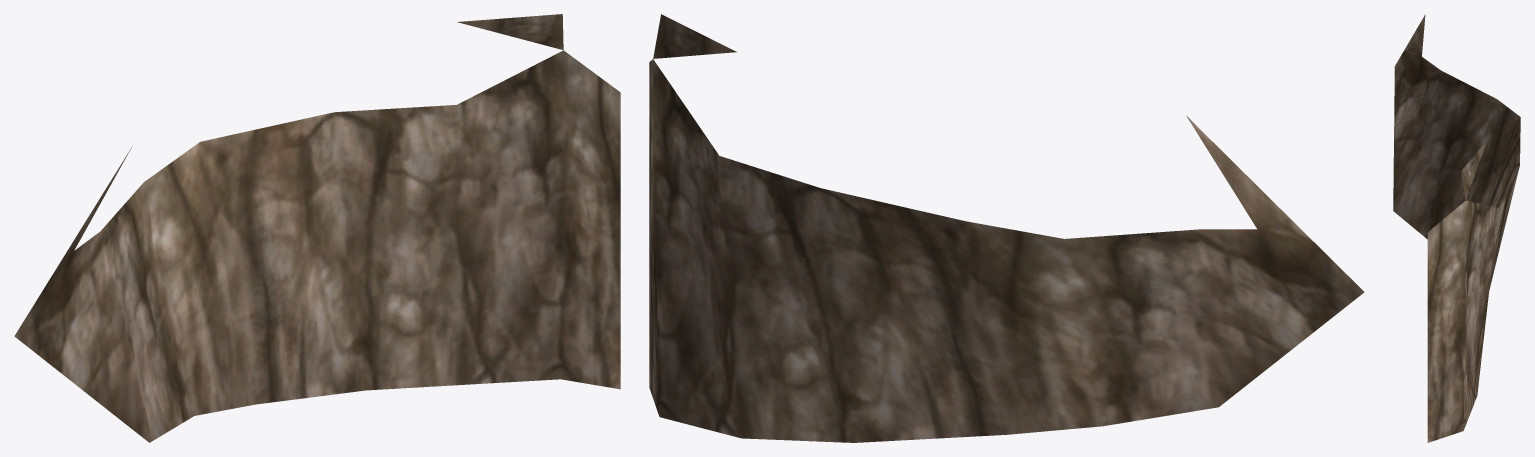
File: OVERHILL_A_01_OBJECT135.fbx
3 views of the same model, side by side, from view 1: azimuth 30°, elevation 25°; view 2: azimuth 150°, elevation 25°; view 3: azimuth 270°, elevation 25° (orthographic). The views are drawn at different scales.
Visible parts, largest first — view 1: OVERHILL_A_01_OBJECT135; view 2: OVERHILL_A_01_OBJECT135; view 3: OVERHILL_A_01_OBJECT135.
Part boxes in pixels (box(x1,y1,x2,y2)): OVERHILL_A_01_OBJECT135: box(14, 14, 620, 442); OVERHILL_A_01_OBJECT135: box(649, 14, 1364, 442); OVERHILL_A_01_OBJECT135: box(1393, 14, 1520, 442).
Bounding box in the file's own units: 93290 × 51900 × 23061.
1 material, 1 textured.
